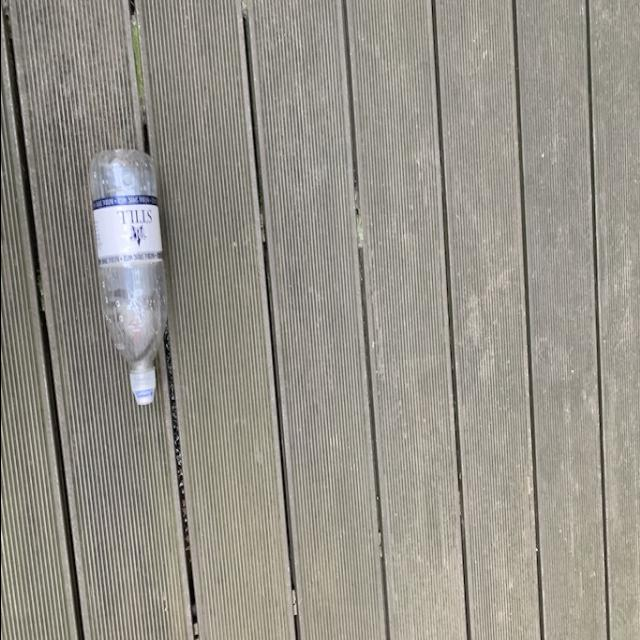litter: (83, 152, 169, 406)
